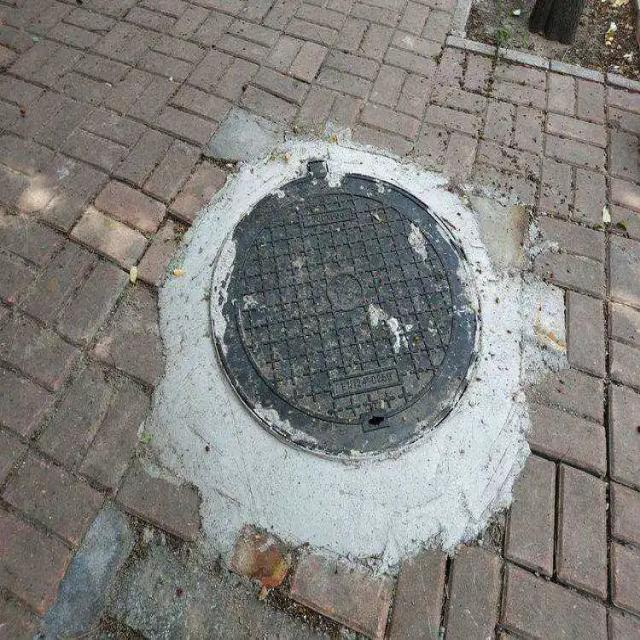manhole: (216, 160, 475, 453)
